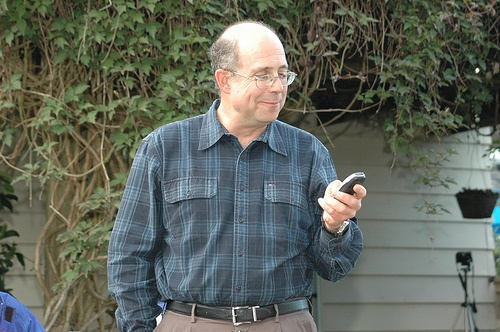head: (211, 21, 289, 126)
person: (108, 22, 368, 332)
